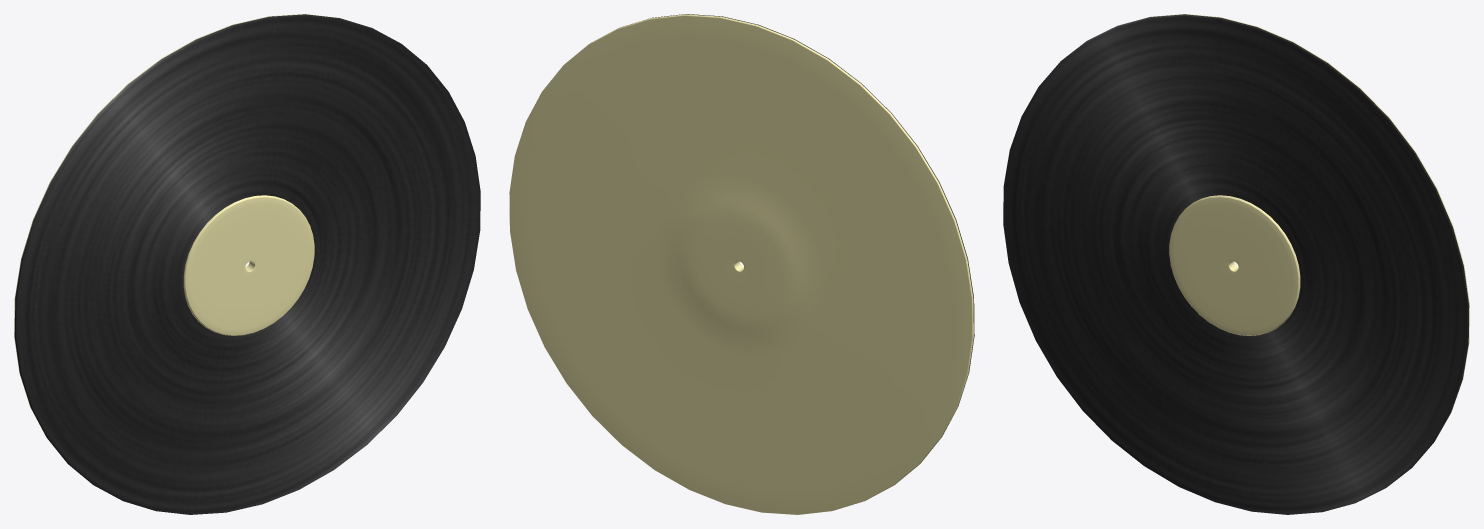
File: Vinyl_L2.fbx
3 renders of one model, left to right at view 1: azimuth 30°, elevation 25°; view 2: azimuth 150°, elevation 25°; view 3: azimuth 330°, elevation 25°, orthographic.
Parts seen in each view (by area): view 1: Vinyl_L_2; view 2: Vinyl_L_2; view 3: Vinyl_L_2.
Boxes of the visible parts, x1=… form: Vinyl_L_2: x1=14, y1=14, x2=480, y2=514; Vinyl_L_2: x1=509, y1=14, x2=974, y2=514; Vinyl_L_2: x1=1003, y1=14, x2=1469, y2=514.
Size of the model in its own units: 3.26 by 0.0708 by 3.26.
Materials: 2 (1 with a texture image).
